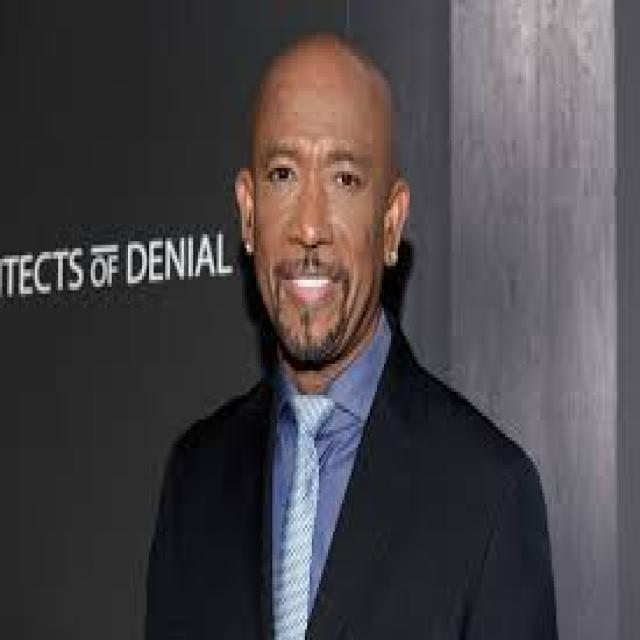normal_face: (247, 61, 406, 417)
